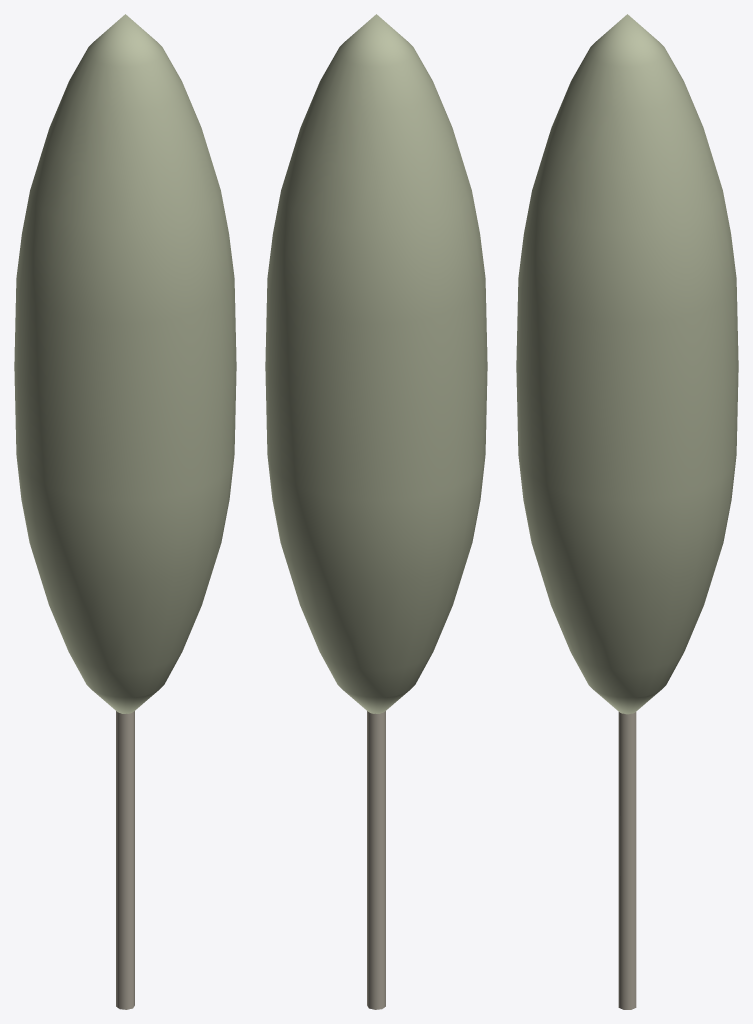
File: PseudotsugaMenziesii.glb
The picture shows the model from 3 angles, left to right: view 1: azimuth 30°, elevation 25°; view 2: azimuth 150°, elevation 25°; view 3: azimuth 270°, elevation 25°; orthographic projection.
Parts seen in each view (by area): view 1: Douglas_Fir__Schematic_LOD3; view 2: Douglas_Fir__Schematic_LOD3; view 3: Douglas_Fir__Schematic_LOD3.
Part boxes in pixels (<box>): Douglas_Fir__Schematic_LOD3: <box>14,14,236,1009</box>; Douglas_Fir__Schematic_LOD3: <box>265,14,487,1009</box>; Douglas_Fir__Schematic_LOD3: <box>516,14,738,1009</box>.
Bounding box in the file's own units: 13.3 × 65.51 × 13.3.
